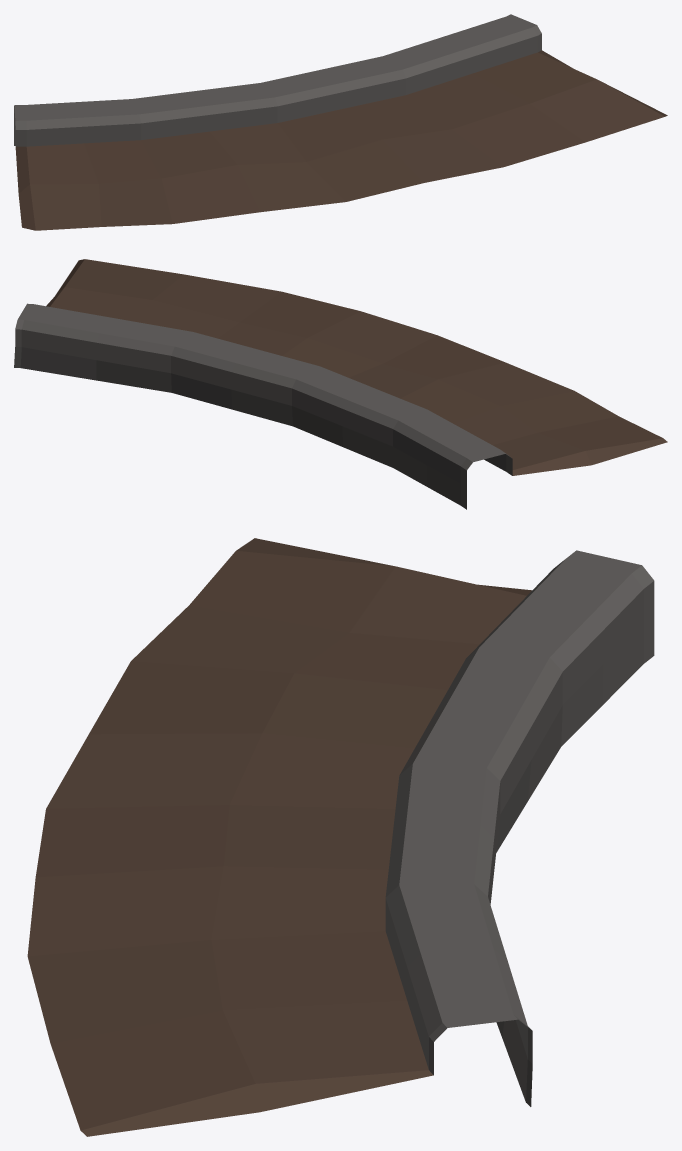
File: Garden Ground Turn 4.fbx
The picture shows the model from 3 angles, top to bottom: view 1: azimuth 30°, elevation 25°; view 2: azimuth 150°, elevation 25°; view 3: azimuth 270°, elevation 25°; orthographic projection. The views are drawn at different scales.
Visible parts, largest first — view 1: Garden Ground Turn 4.001; view 2: Garden Ground Turn 4.001; view 3: Garden Ground Turn 4.001.
Boxes of the visible parts, x1,y1,x2,y2 form: Garden Ground Turn 4.001: (14,14,667,230); Garden Ground Turn 4.001: (14,259,667,509); Garden Ground Turn 4.001: (27,538,654,1136).
Size of the model in its own units: 334 by 150 by 23.14.
